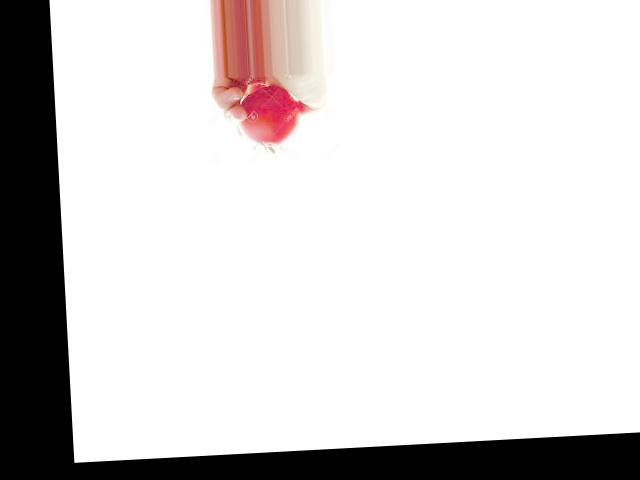tomato: (235, 84, 301, 149)
